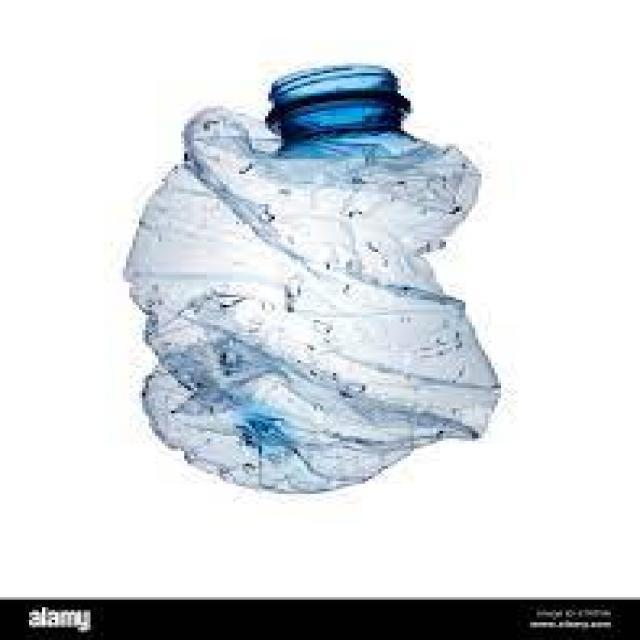bottle: (110, 49, 514, 493)
